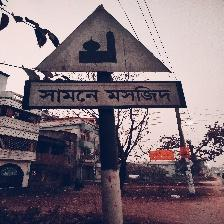Mosque in front: (29, 3, 185, 111)
